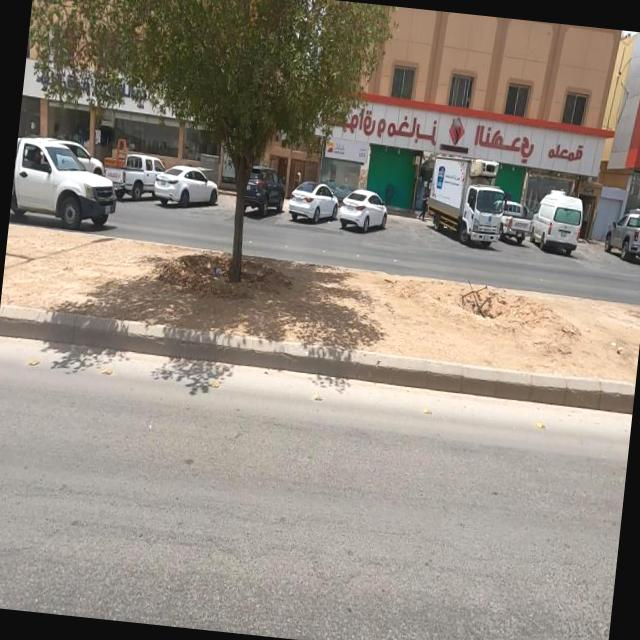debris: (442, 231, 541, 372), (196, 236, 244, 308)
